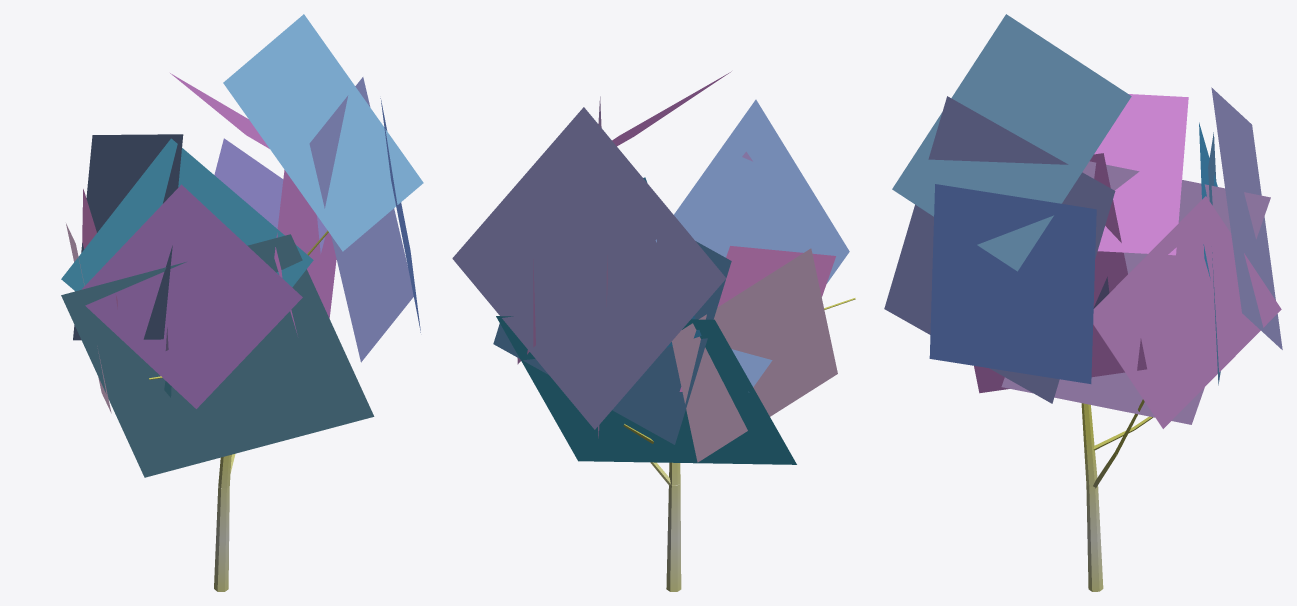
File: tree_lime_2.glb
The picture shows the model from 3 angles, left to right: view 1: azimuth 30°, elevation 25°; view 2: azimuth 150°, elevation 25°; view 3: azimuth 270°, elevation 25°; orthographic projection.
Visible parts, largest first — view 1: tree_lime_2; view 2: tree_lime_2; view 3: tree_lime_2.
Part boxes in pixels (x1,y1,x2,y2): tree_lime_2: (61, 14, 423, 591); tree_lime_2: (452, 71, 855, 591); tree_lime_2: (884, 14, 1282, 591).
Size of the model in its own units: 8 by 11.76 by 7.66.
